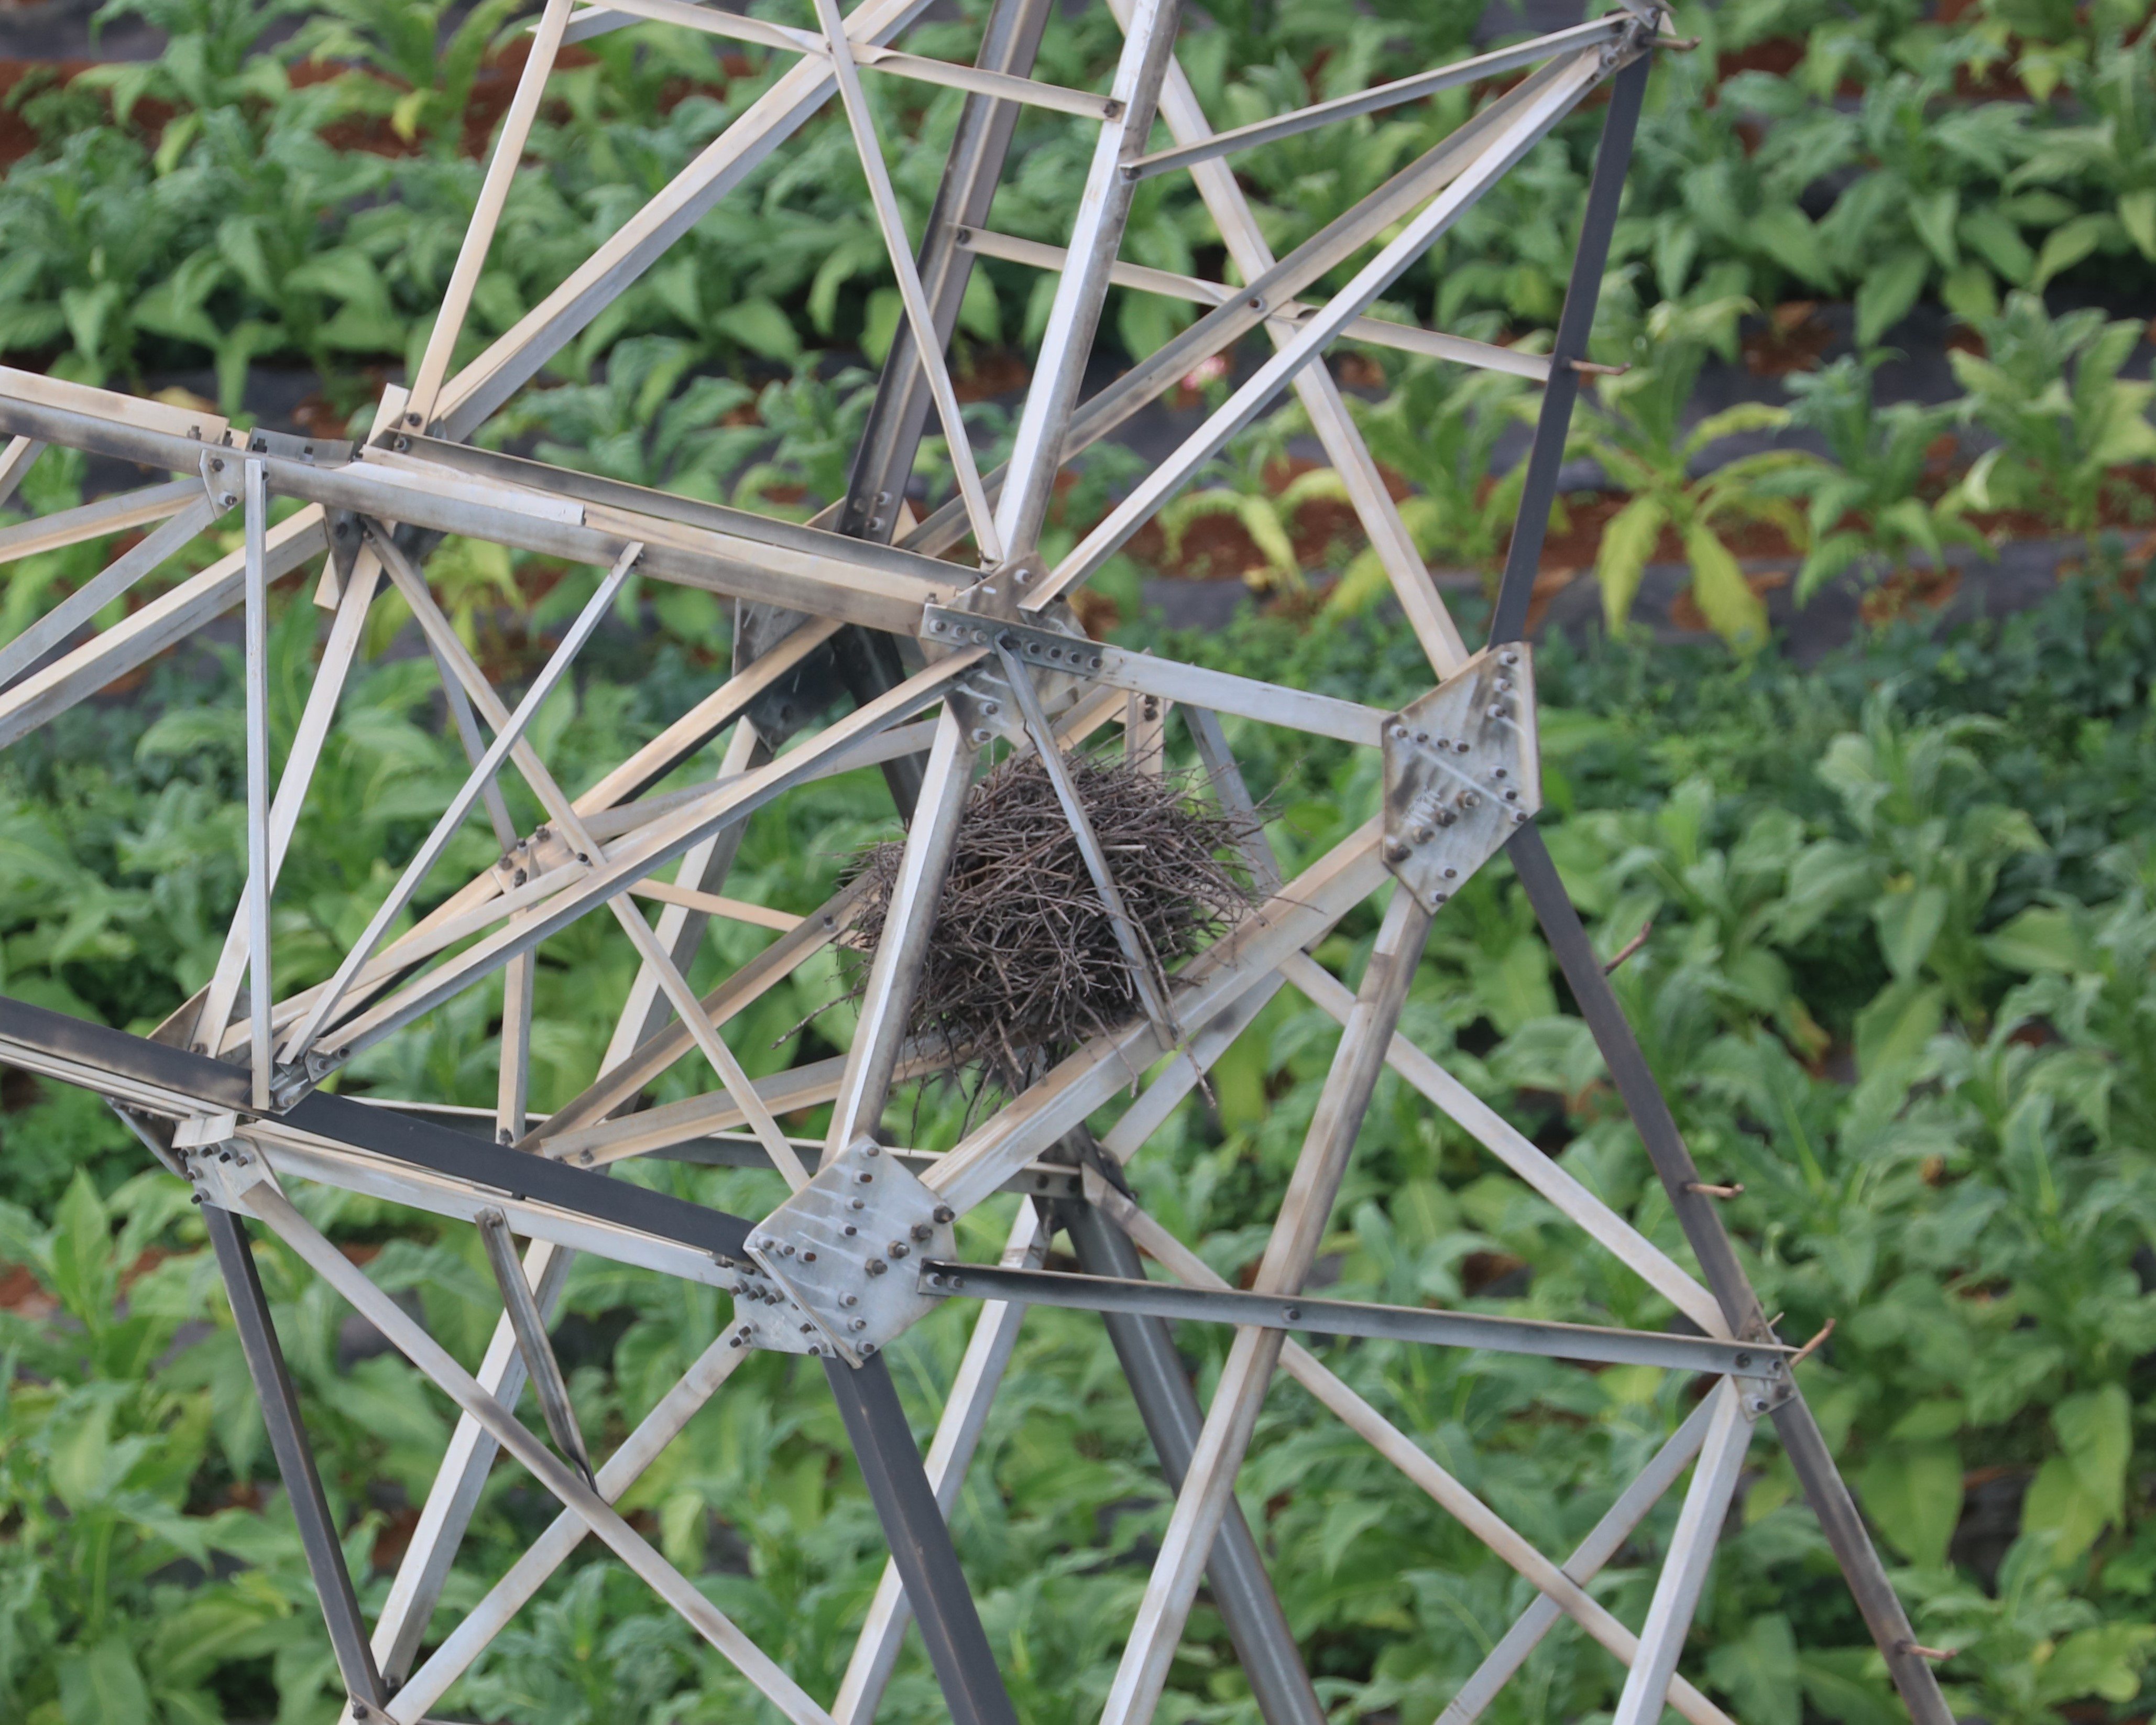niaowo: (834, 738, 1260, 1081)
